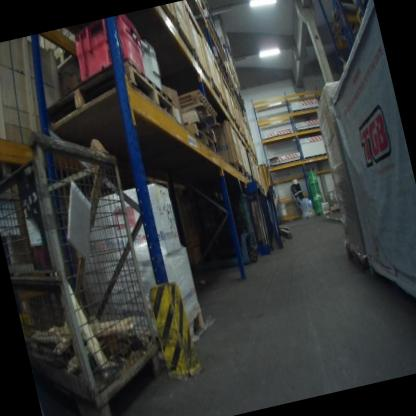pallet: (34, 51, 176, 148), (139, 302, 210, 359), (344, 240, 371, 274), (297, 127, 308, 133), (304, 155, 314, 161), (292, 109, 303, 114), (310, 105, 320, 110), (302, 107, 311, 112), (307, 126, 316, 131), (314, 153, 323, 158), (322, 152, 327, 156), (316, 125, 320, 129)
stillage: (0, 112, 187, 416)
